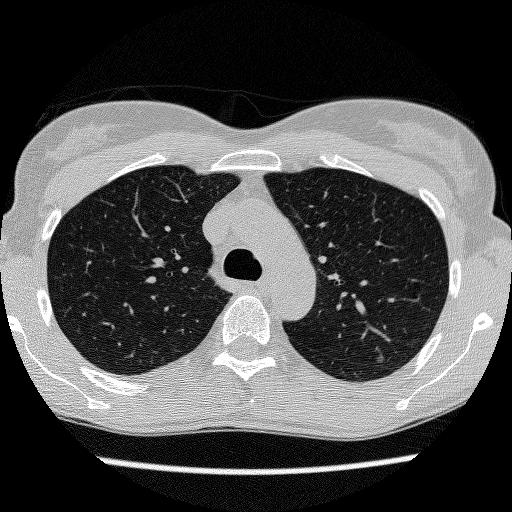nodule: (374, 353, 387, 366)
